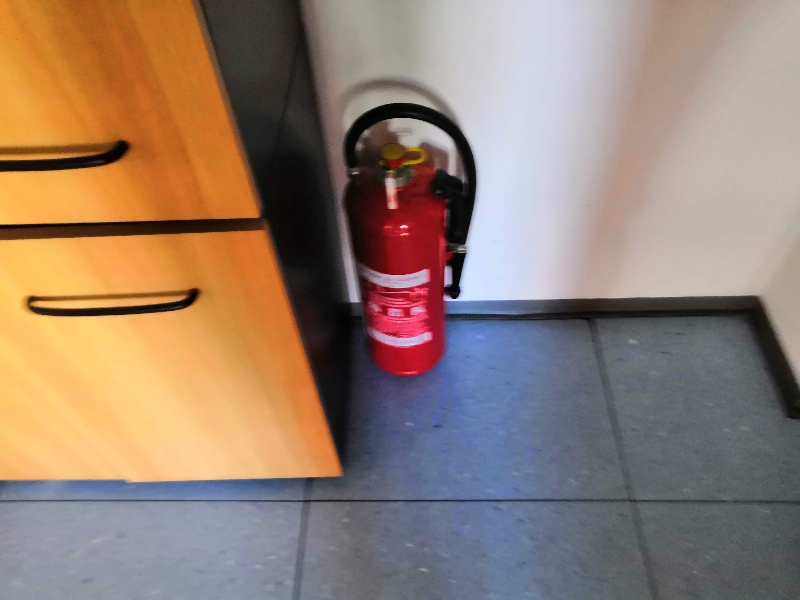vataparat: (342, 103, 477, 377)
